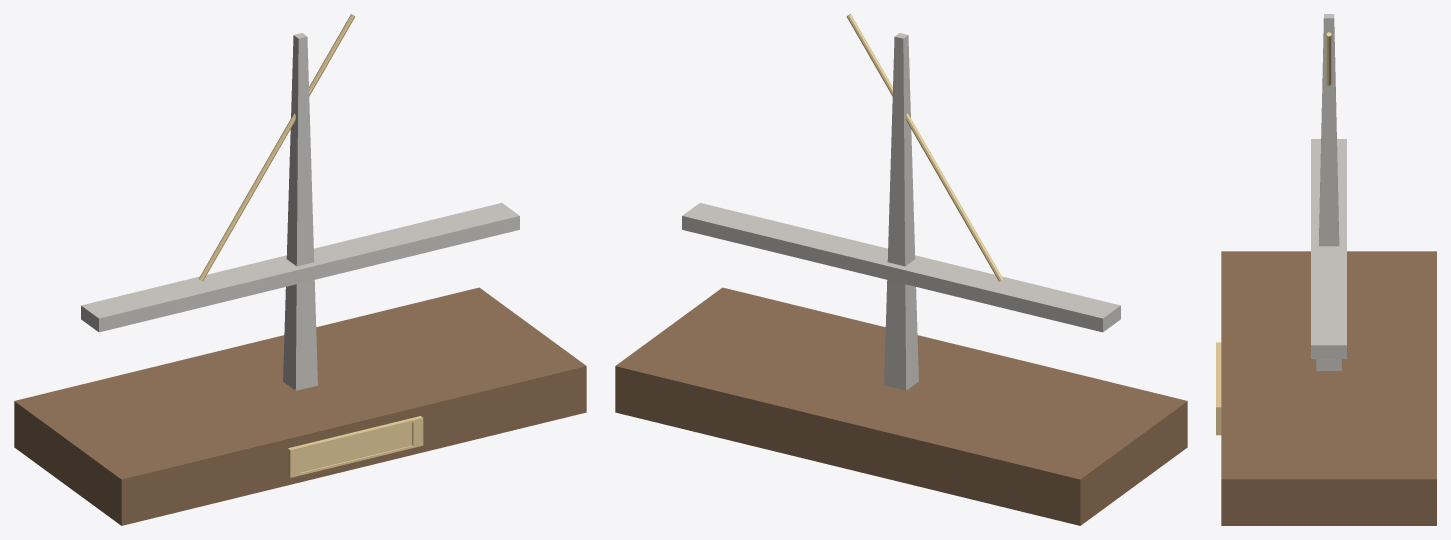
File: bridge-concept.glb
3 views of the same model, side by side, from view 1: azimuth 30°, elevation 25°; view 2: azimuth 150°, elevation 25°; view 3: azimuth 270°, elevation 25° (orthographic).
Visible parts, largest first — view 1: Base, Deck, Tower, Logo plate, Cable fan; view 2: Base, Deck, Tower, Cable fan; view 3: Base, Deck, Tower, Logo plate, Cable fan.
Part boxes in pixels (<box>): Base: <box>14,287,586,525</box>; Deck: <box>81,203,519,332</box>; Tower: <box>283,33,317,390</box>; Logo plate: <box>287,416,423,477</box>; Cable fan: <box>199,14,355,281</box>; Base: <box>615,287,1187,525</box>; Deck: <box>682,203,1120,332</box>; Tower: <box>884,33,918,390</box>; Cable fan: <box>846,14,1002,281</box>; Base: <box>1221,251,1436,525</box>; Deck: <box>1311,139,1346,358</box>; Tower: <box>1316,14,1341,370</box>; Logo plate: <box>1216,342,1221,435</box>; Cable fan: <box>1326,32,1331,85</box>.
Size of the model in its own units: 0.21 by 0.1739 by 0.086.
